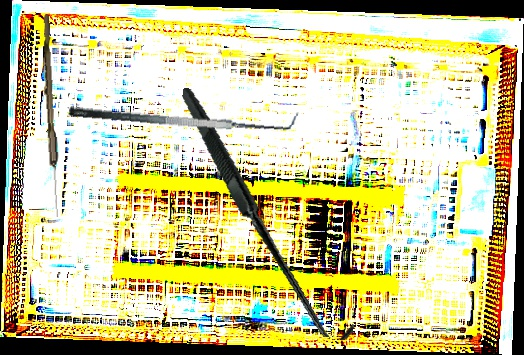Hook Surgical: (145, 87, 390, 342)
Spatula Surgical: (68, 88, 299, 141)
Surgical Spoon: (38, 14, 64, 218)
